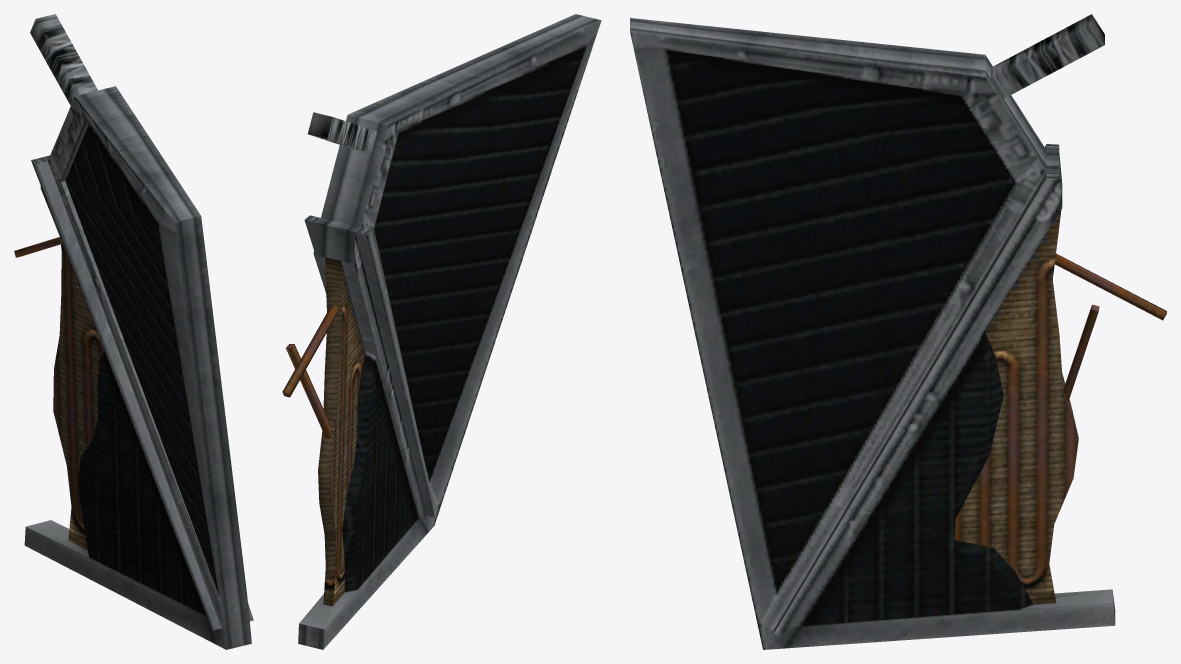
The model's file is tie_fighter_debris_c_l0.fbx.
3 views of the same model, side by side, from view 1: azimuth 30°, elevation 25°; view 2: azimuth 150°, elevation 25°; view 3: azimuth 270°, elevation 25° (orthographic). The views are drawn at different scales.
Visible parts, largest first — view 1: mesh_node; view 2: mesh_node; view 3: mesh_node.
Boxes of the visible parts, x1=… form: mesh_node: x1=14, y1=14, x2=253, y2=649; mesh_node: x1=282, y1=14, x2=601, y2=649; mesh_node: x1=630, y1=14, x2=1166, y2=649.
Bounding box in the file's own units: 1.41 × 5.03 × 4.09.
1 material, 1 textured.
